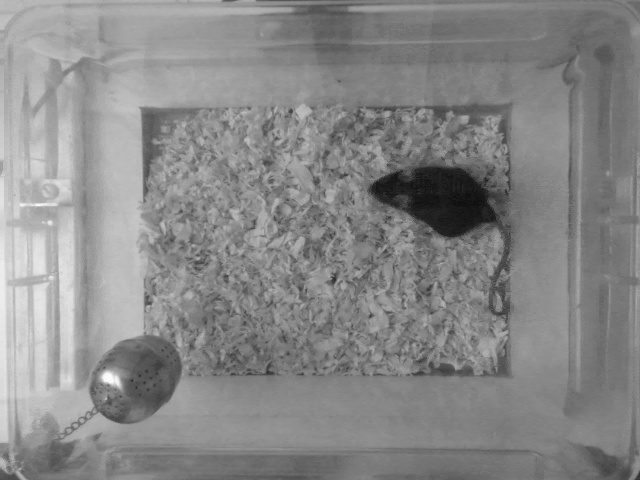mice: (366, 164, 517, 320)
